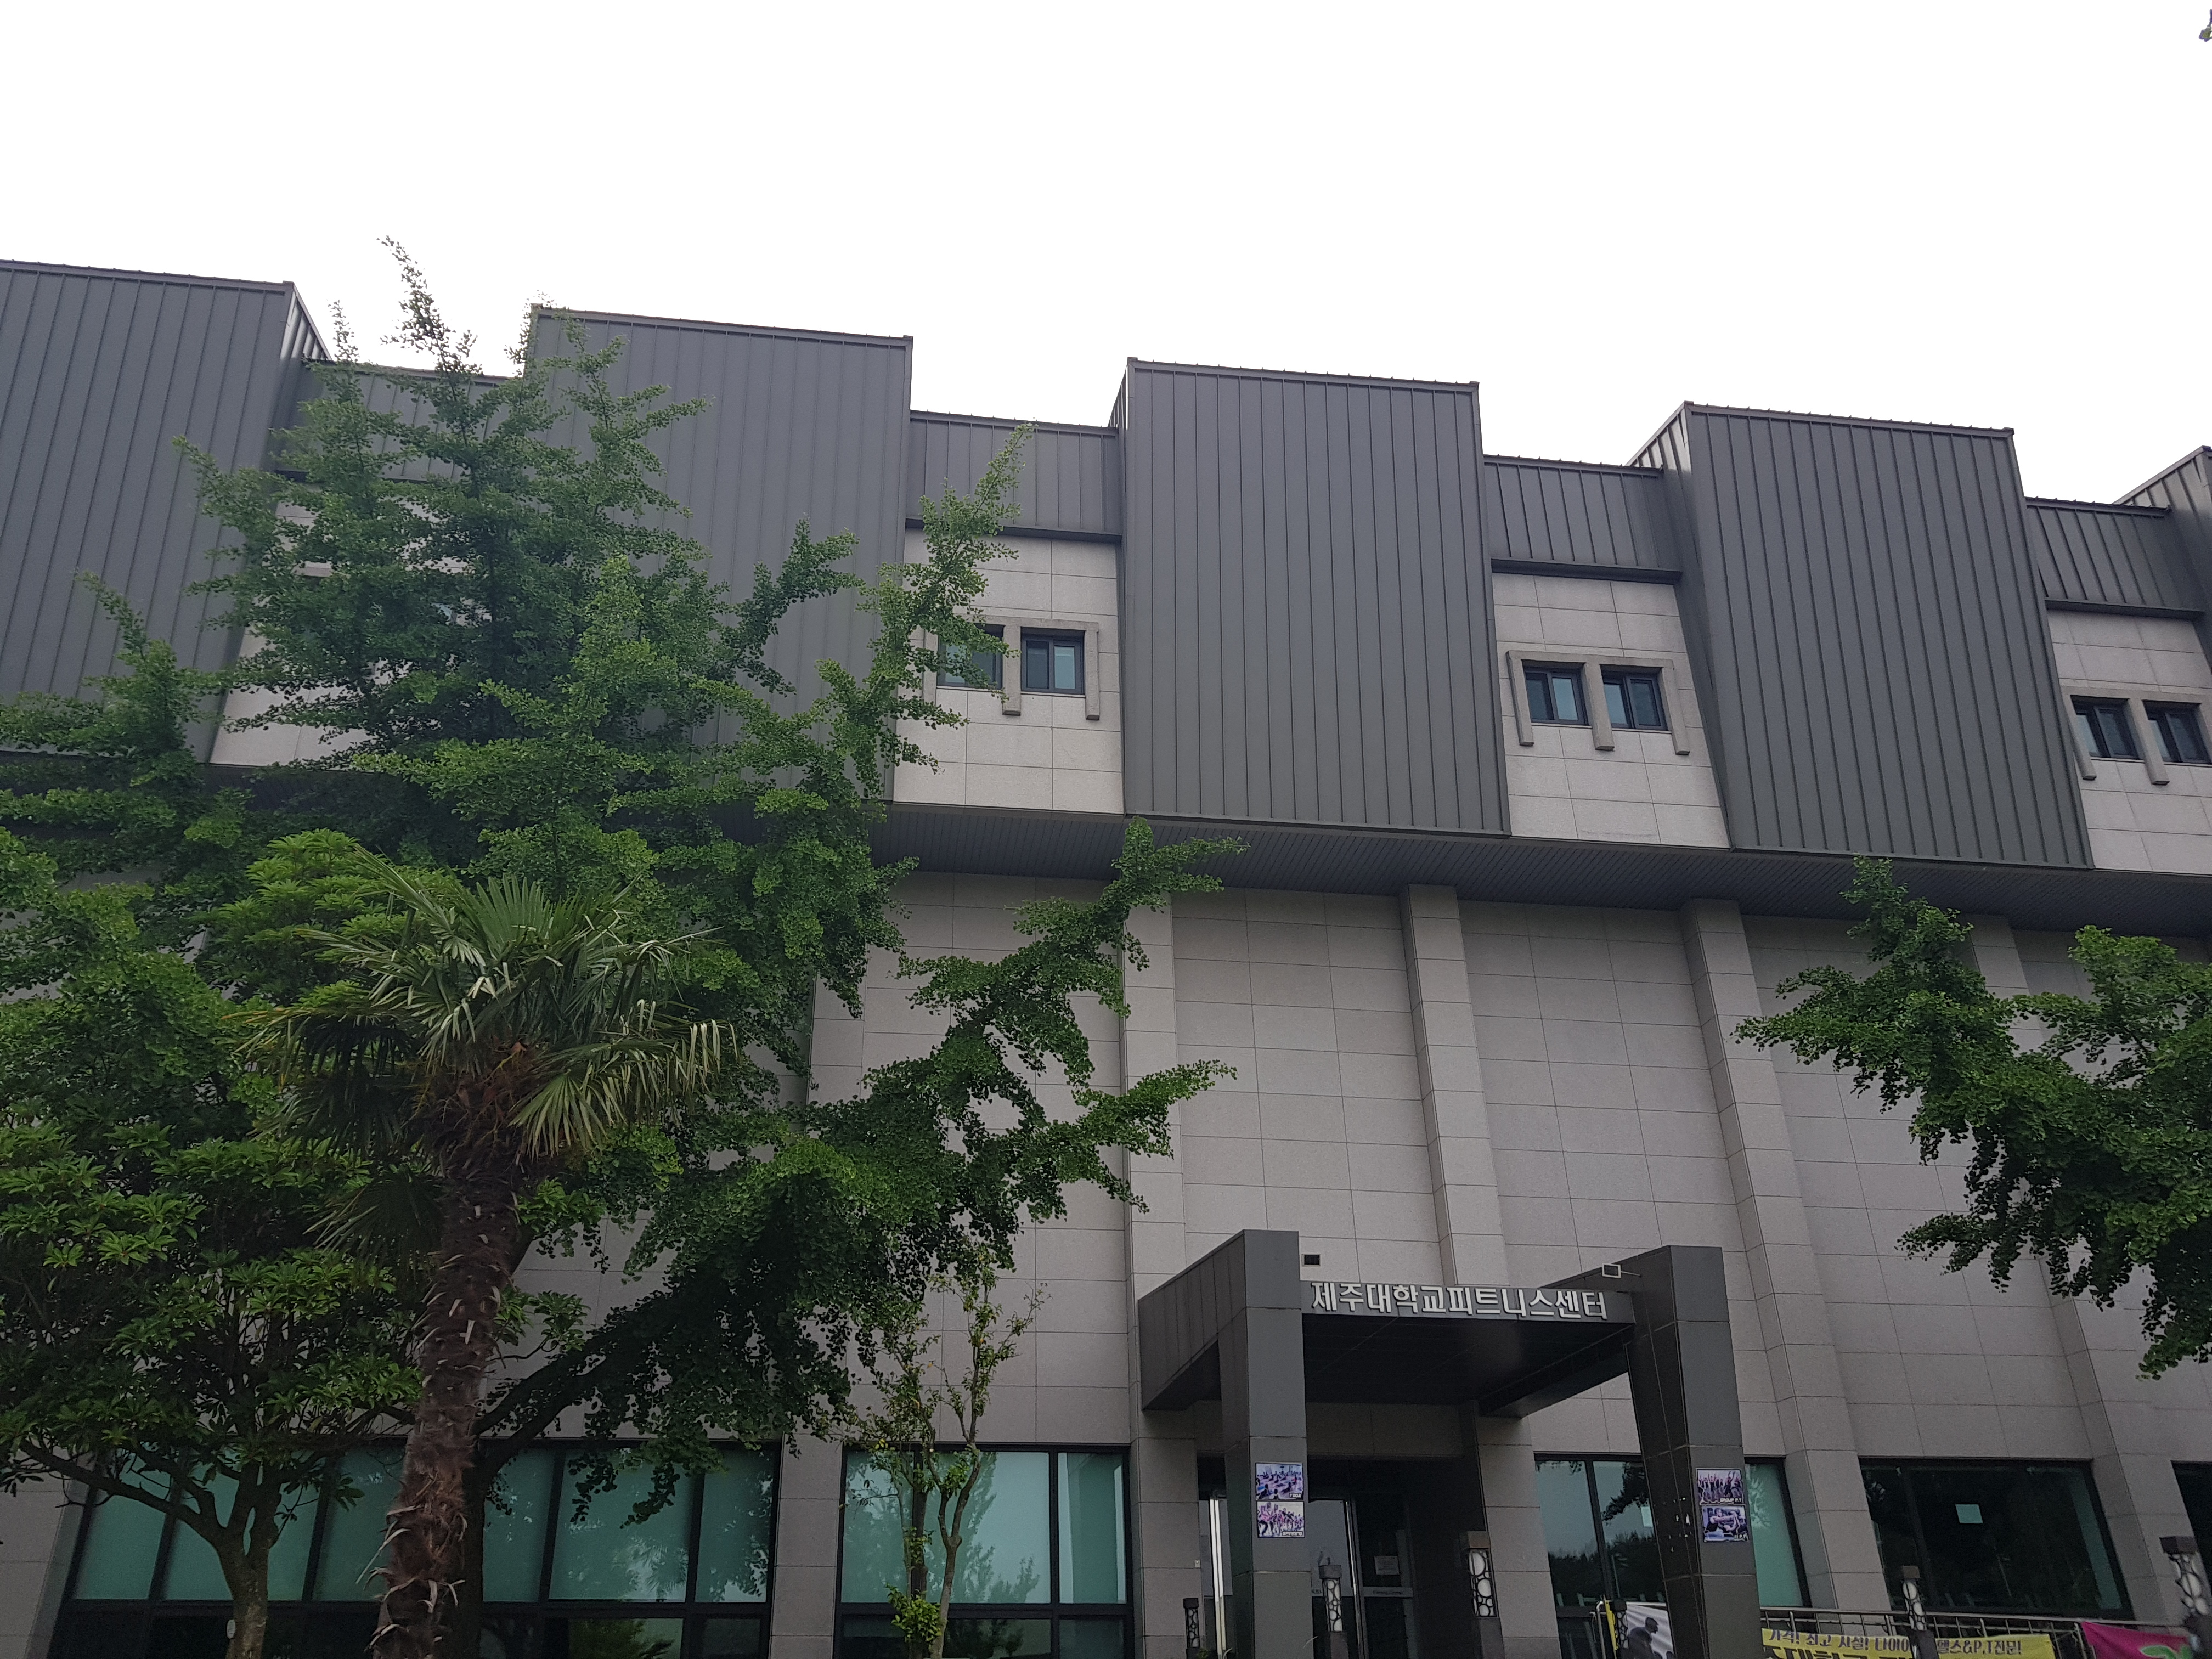Gym: (23, 247, 2189, 1638), (152, 275, 2116, 878), (1090, 1206, 1818, 1642)
